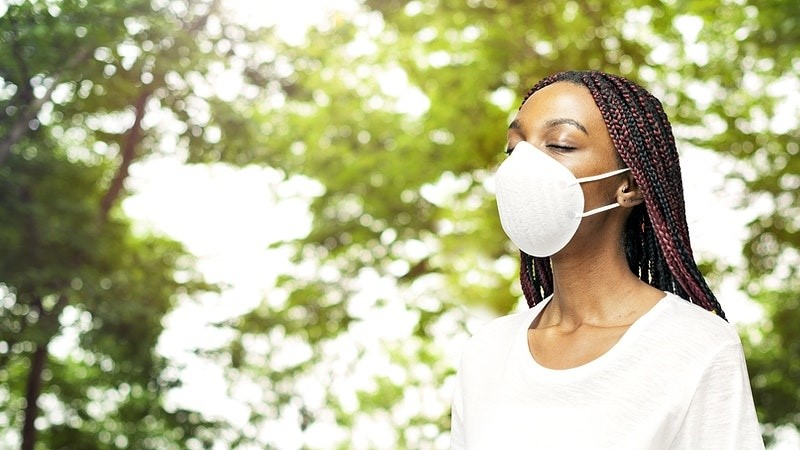face_with_mask: (490, 79, 653, 262)
